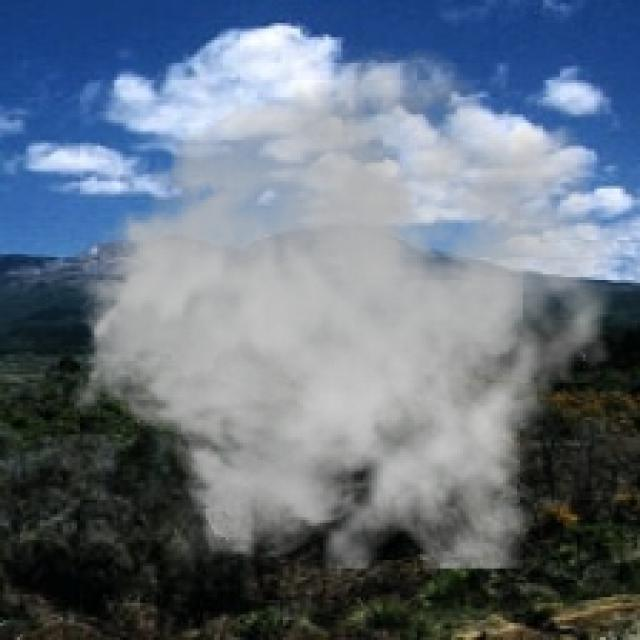smoke: (66, 46, 628, 568)
